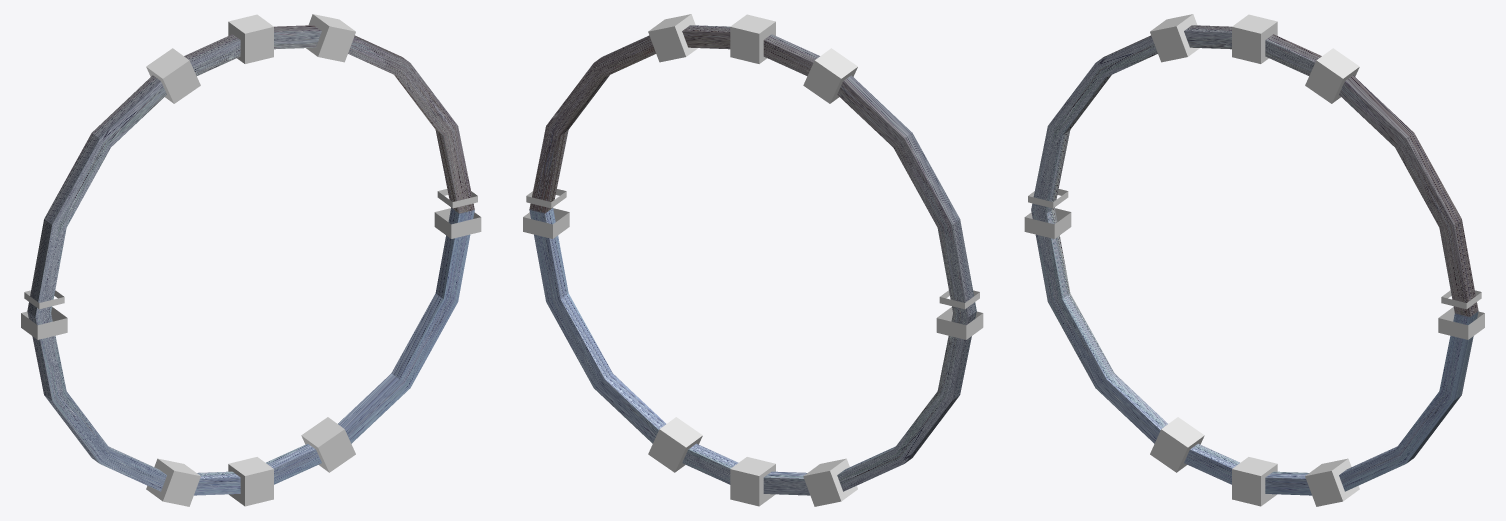
File: avaruusring.fbx
3 renders of one model, left to right at view 1: azimuth 30°, elevation 25°; view 2: azimuth 150°, elevation 25°; view 3: azimuth 330°, elevation 25°, orthographic.
Visible parts, largest first — view 1: Cube, Cube.002, Cube.001; view 2: Cube, Cube.002, Cube.001; view 3: Cube, Cube.002, Cube.001.
Part boxes in pixels (x1,y1,x2,y2): Cube: [27, 25, 474, 495]; Cube.002: [146, 14, 355, 506]; Cube.001: [21, 189, 481, 339]; Cube: [529, 25, 976, 495]; Cube.002: [648, 14, 857, 506]; Cube.001: [523, 189, 983, 339]; Cube: [1031, 25, 1478, 495]; Cube.002: [1150, 14, 1359, 506]; Cube.001: [1024, 189, 1484, 339].
Size of the model in its own units: 398 by 392 by 39.67.
2 materials, 1 textured.
